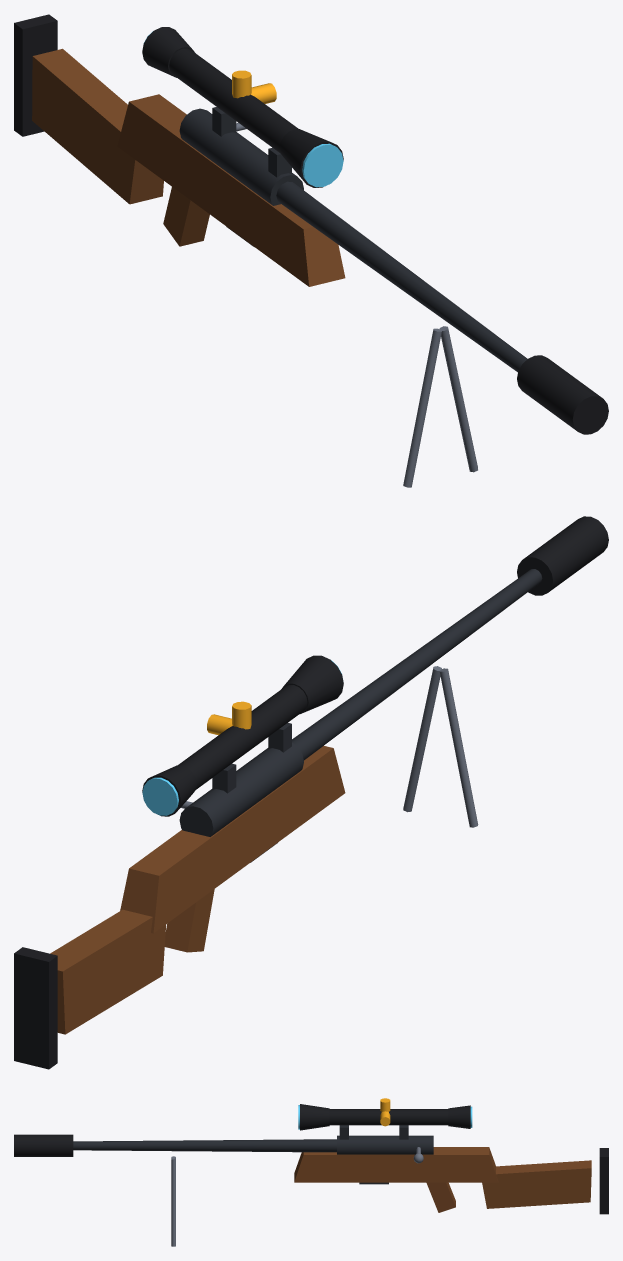
File: SniperRifle.obj
3 renders of one model, top to bottom at view 1: azimuth 30°, elevation 25°; view 2: azimuth 150°, elevation 25°; view 3: azimuth 270°, elevation 25°, orthographic. The views are drawn at different scales.
Visible parts, largest first — view 1: Stock, Barrel, Receiver, ScopeTube, Suppressor, ButtPad, Bipod, LensFront, ScopeBack, ScopeFront, ScopeMount, ScopeTurret; view 2: Stock, Barrel, ButtPad, Receiver, ScopeTube, Suppressor, Bipod, ScopeFront, LensBack, ScopeMount, ScopeBack, ScopeTurret; view 3: Stock, Barrel, ScopeTube, Receiver, Suppressor, ScopeFront, ButtPad, ScopeBack, Bipod, ScopeMount, ScopeTurret.
Boxes of the visible parts, <box> form: Stock: <box>32,48,345,286</box>; Barrel: <box>276,181,527,372</box>; Receiver: <box>179,108,303,205</box>; ScopeTube: <box>169,48,298,153</box>; Suppressor: <box>517,355,608,434</box>; ButtPad: <box>14,14,57,136</box>; Bipod: <box>403,326,477,487</box>; LensFront: <box>302,143,343,187</box>; ScopeBack: <box>142,27,194,77</box>; ScopeFront: <box>279,129,343,187</box>; ScopeMount: <box>212,107,291,177</box>; ScopeTurret: <box>232,70,276,103</box>; Stock: <box>50,746,345,1034</box>; Barrel: <box>292,569,542,760</box>; ButtPad: <box>14,947,57,1069</box>; Receiver: <box>179,742,303,836</box>; ScopeTube: <box>178,685,307,789</box>; Suppressor: <box>517,516,608,595</box>; Bipod: <box>403,666,478,827</box>; ScopeFront: <box>281,655,343,713</box>; LensBack: <box>142,777,178,815</box>; ScopeMount: <box>212,723,291,793</box>; ScopeBack: <box>142,765,196,816</box>; ScopeTurret: <box>207,701,251,735</box>; Stock: <box>294,1147,591,1212</box>; Barrel: <box>73,1139,336,1152</box>; ScopeTube: <box>329,1109,448,1125</box>; Receiver: <box>337,1135,433,1154</box>; Suppressor: <box>14,1134,73,1156</box>; ScopeFront: <box>300,1104,329,1130</box>; ButtPad: <box>599,1148,608,1214</box>; ScopeBack: <box>448,1105,470,1128</box>; Bipod: <box>171,1156,175,1246</box>; ScopeMount: <box>339,1125,408,1139</box>; ScopeTurret: <box>380,1098,390,1126</box>.
Size of the model in its own units: 0.1658 by 0.4088 by 1.6.
